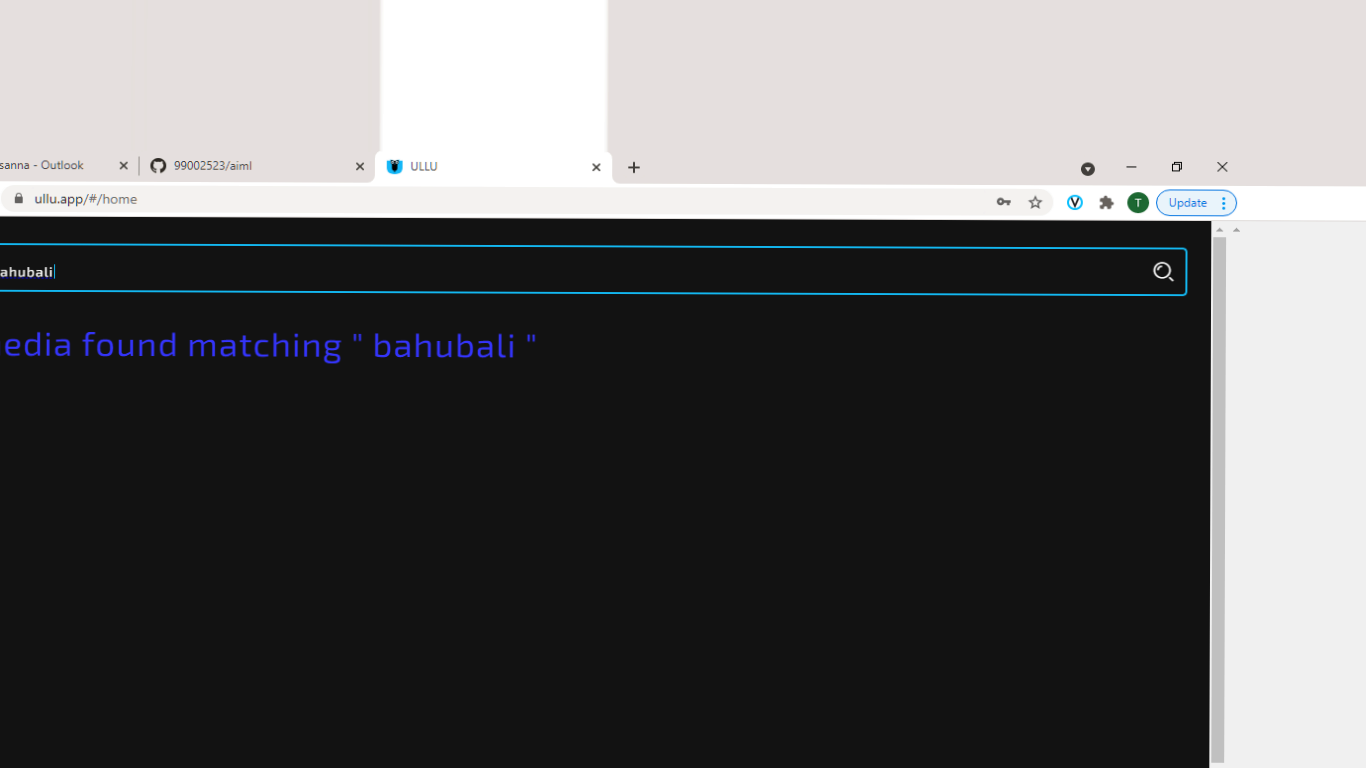noresultsfound: (1, 327, 566, 370)
searchicon: (1141, 245, 1186, 298)
searchtextbox: (1, 245, 1185, 290)
